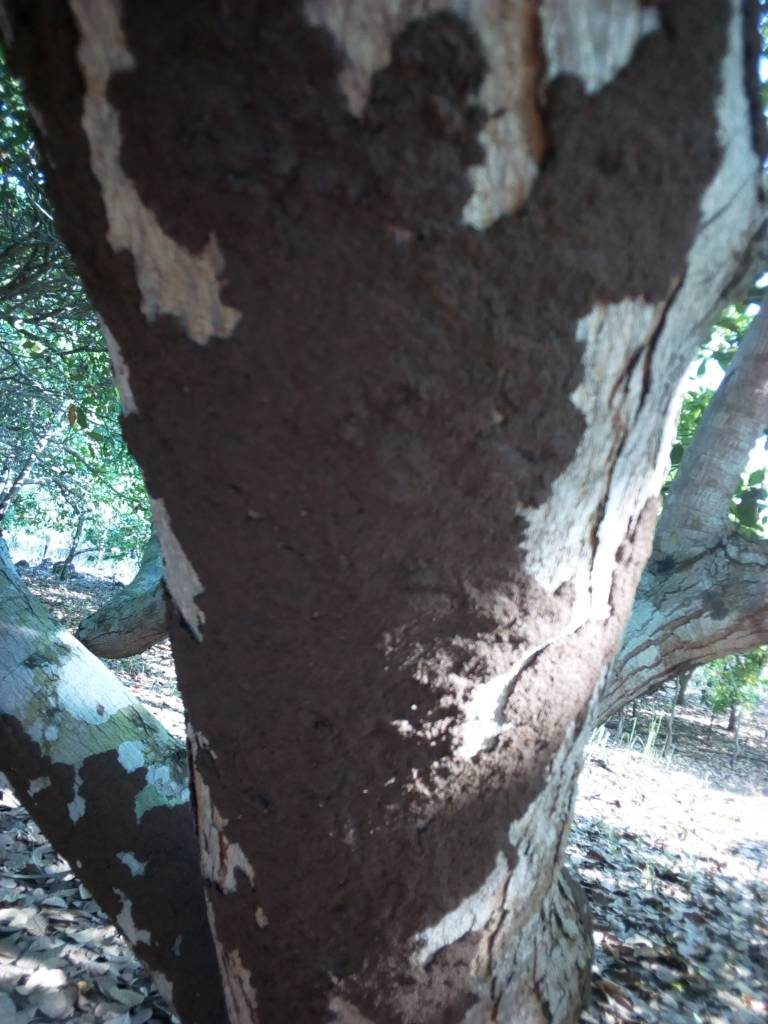Termites: (157, 22, 554, 1003), (577, 19, 705, 310)
